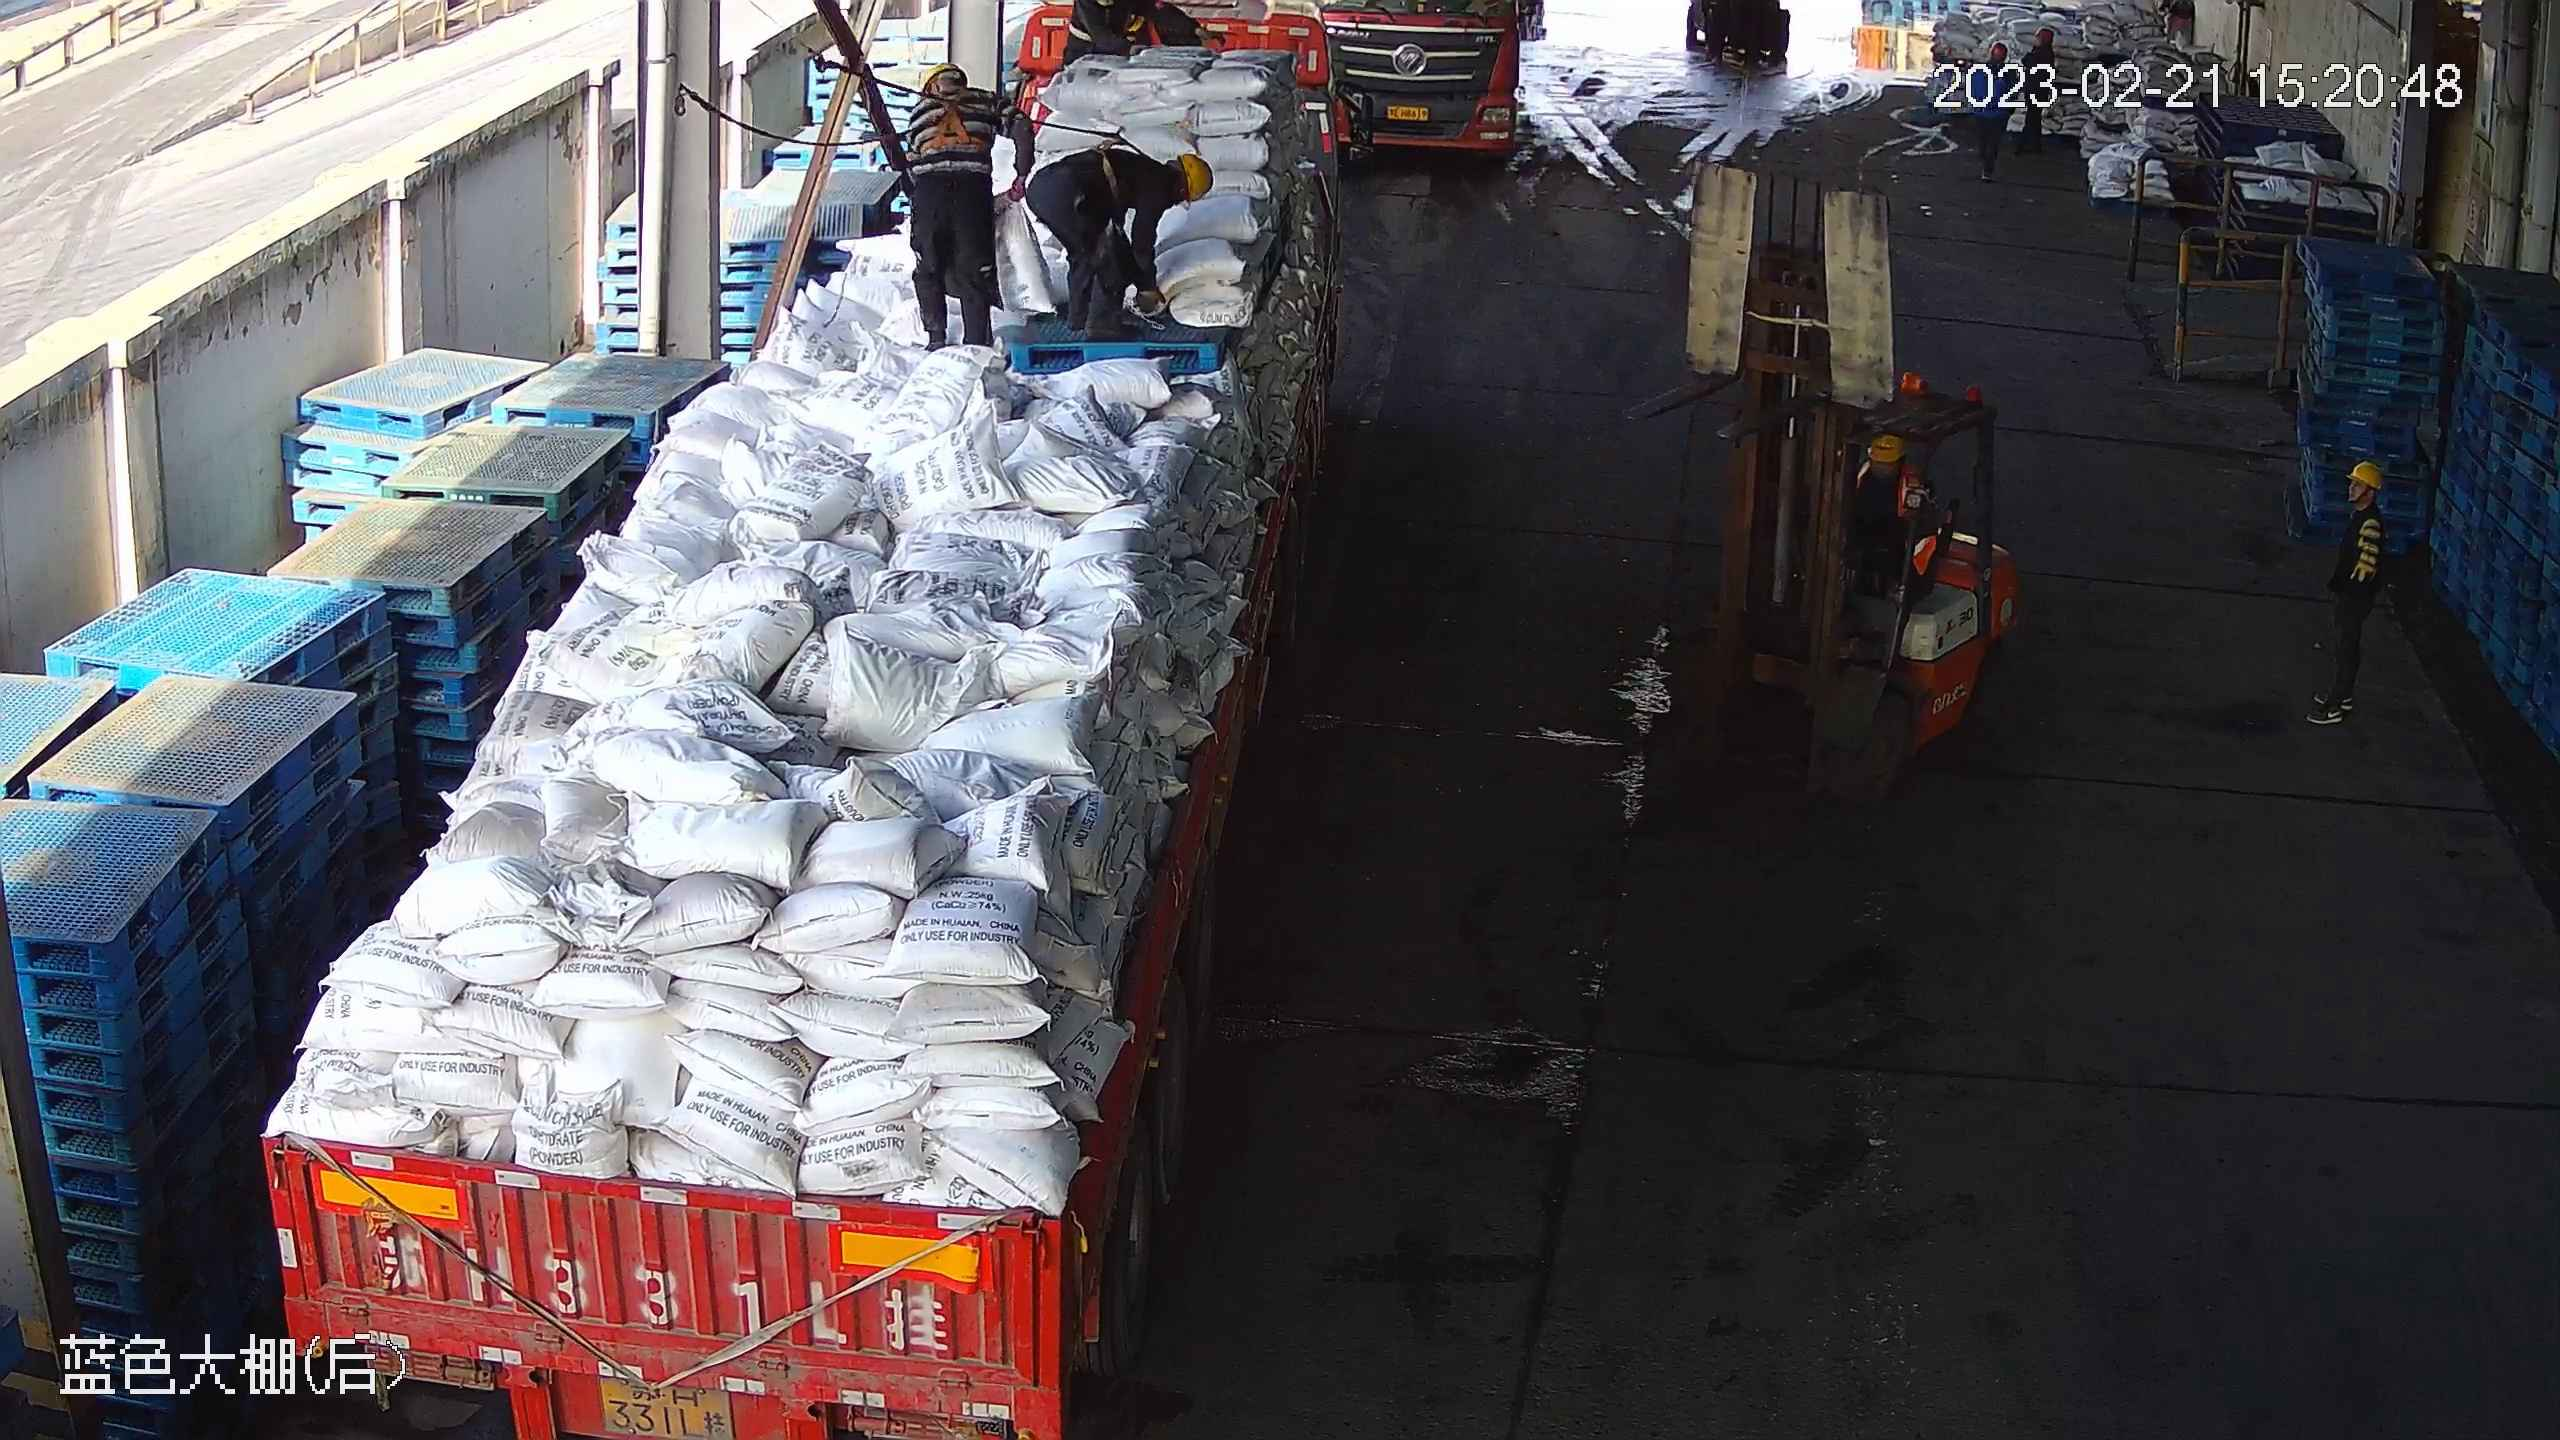belt: (922, 90, 977, 152), (1103, 140, 1142, 217)
head: (1107, 134, 1212, 223), (908, 69, 1012, 149), (2328, 454, 2385, 534)
helmet: (1178, 150, 1214, 202), (1861, 433, 1909, 469), (2347, 461, 2384, 494)
people: (1027, 137, 1216, 332), (903, 67, 1016, 356), (2303, 454, 2390, 727)
truck: (249, 4, 1353, 1440), (1310, 1, 1544, 164)
